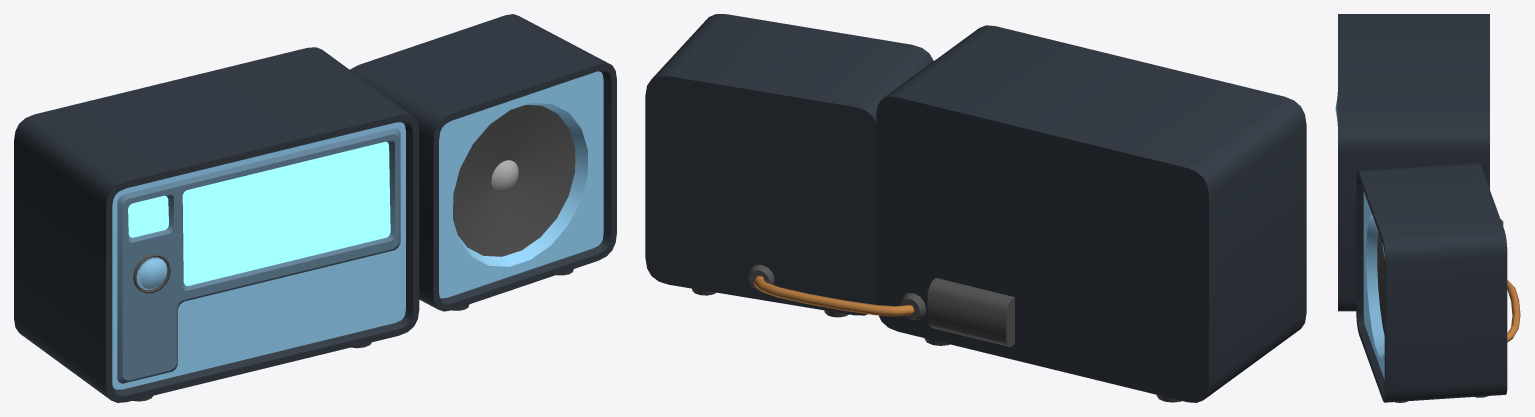
File: RadioComplert.fbx
3 renders of one model, left to right at view 1: azimuth 30°, elevation 25°; view 2: azimuth 150°, elevation 25°; view 3: azimuth 270°, elevation 25°, orthographic. The views are drawn at different scales.
Visible parts, largest first — view 1: radio_00, Button; view 2: radio_00; view 3: radio_00.
Boxes of the visible parts, box(x1,y1,x2,y2) form: radio_00: box(14, 14, 616, 402); Button: box(133, 253, 170, 293); radio_00: box(645, 14, 1306, 402); radio_00: box(1338, 14, 1520, 402).
Bounding box in the file's own units: 34.04 × 13.95 × 12.22.
